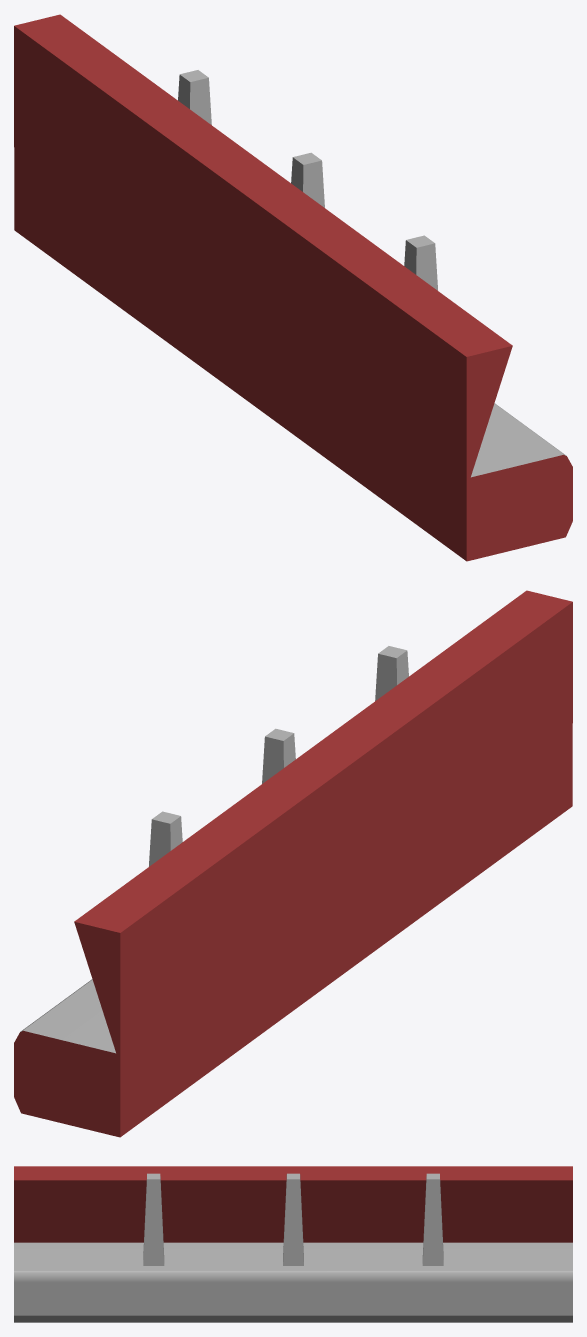
File: SM_Wall_Pipes.fbx
3 renders of one model, top to bottom at view 1: azimuth 30°, elevation 25°; view 2: azimuth 150°, elevation 25°; view 3: azimuth 270°, elevation 25°, orthographic. The views are drawn at different scales.
Visible parts, largest first — view 1: SM_Wall_Pipes; view 2: SM_Wall_Pipes; view 3: SM_Wall_Pipes.
Part boxes in pixels (bbox=[...]): SM_Wall_Pipes: bbox=[14, 14, 572, 561]; SM_Wall_Pipes: bbox=[14, 590, 572, 1137]; SM_Wall_Pipes: bbox=[14, 1166, 572, 1322].
Size of the model in its own units: 326 by 646 by 2400.
